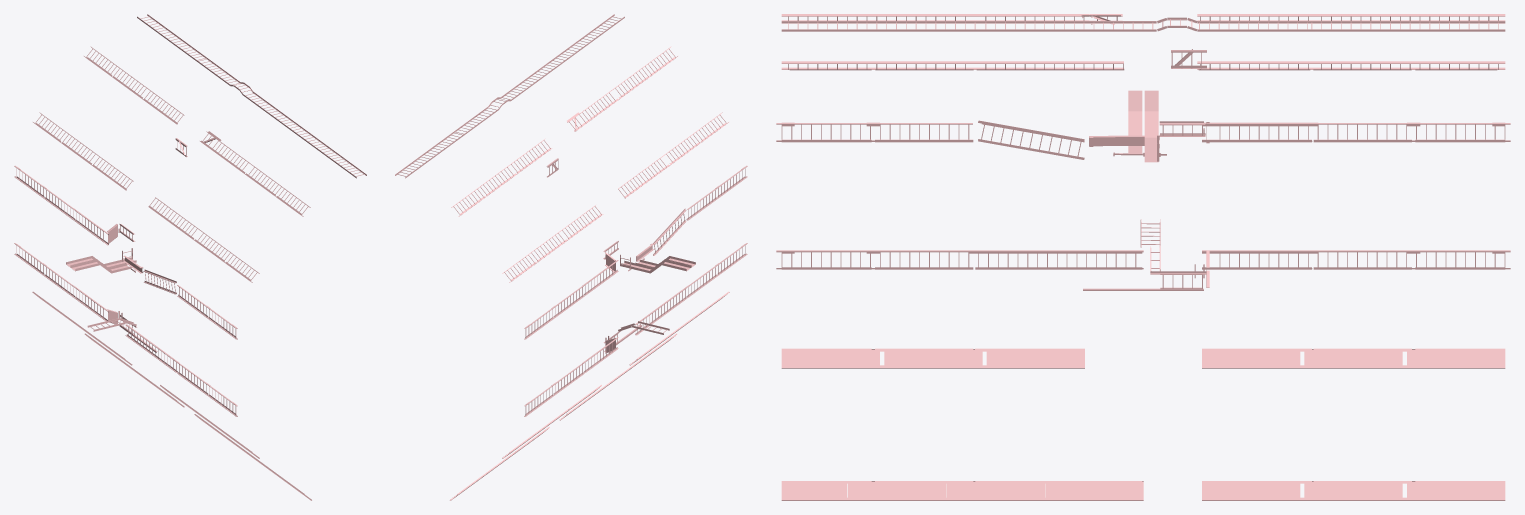
The model's file is Serv-Muon-Cable Trays Inside Barrel-cut2.glb.
3 renders of one model, left to right at view 1: azimuth 30°, elevation 25°; view 2: azimuth 150°, elevation 25°; view 3: azimuth 270°, elevation 25°, orthographic. The views are drawn at different scales.
Visible parts, largest first — view 1: Cabble Trays Inside Barrel cut2; view 2: Cabble Trays Inside Barrel cut2; view 3: Cabble Trays Inside Barrel cut2.
Part boxes in pixels (left/top/right/bottom): Cabble Trays Inside Barrel cut2: left=14, top=14, right=366, bottom=500; Cabble Trays Inside Barrel cut2: left=395, top=14, right=747, bottom=500; Cabble Trays Inside Barrel cut2: left=776, top=14, right=1510, bottom=500.
Size of the model in its own units: 10.84 by 17.5 by 22.4.
